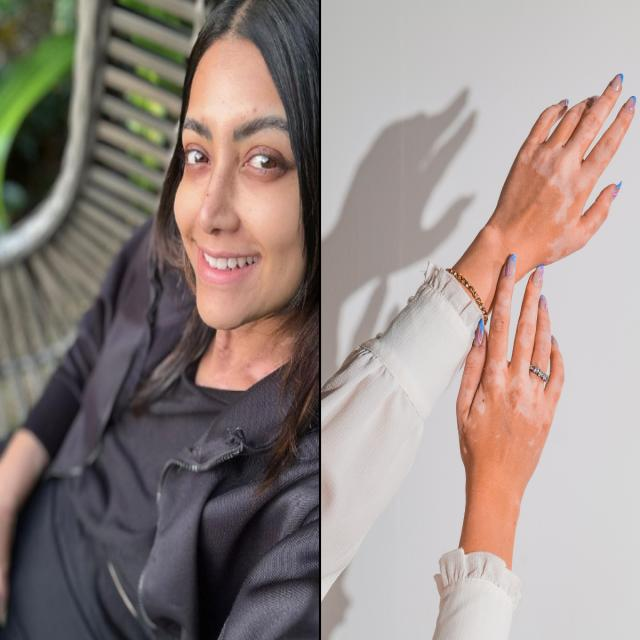vitiligo: (463, 254, 561, 478), (526, 94, 617, 256)
